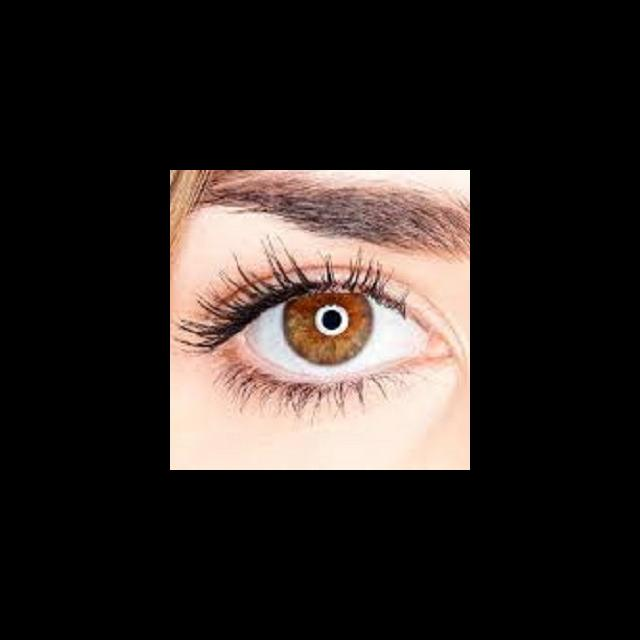eye: (240, 291, 425, 373)
iris: (283, 294, 373, 366)
